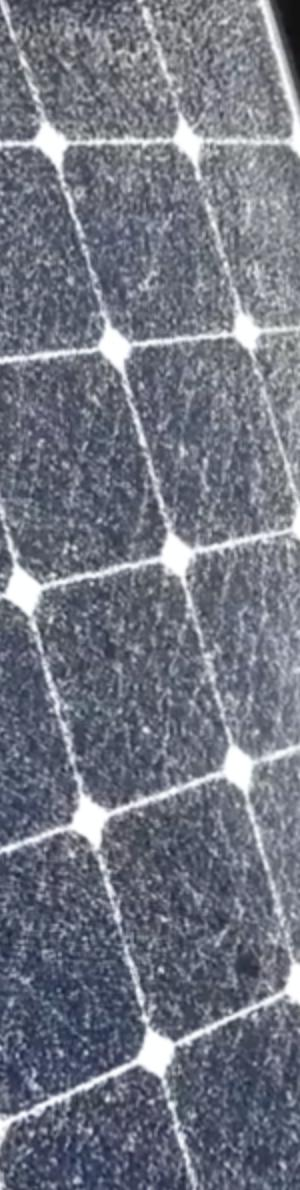Crack: (0, 173, 298, 635)
